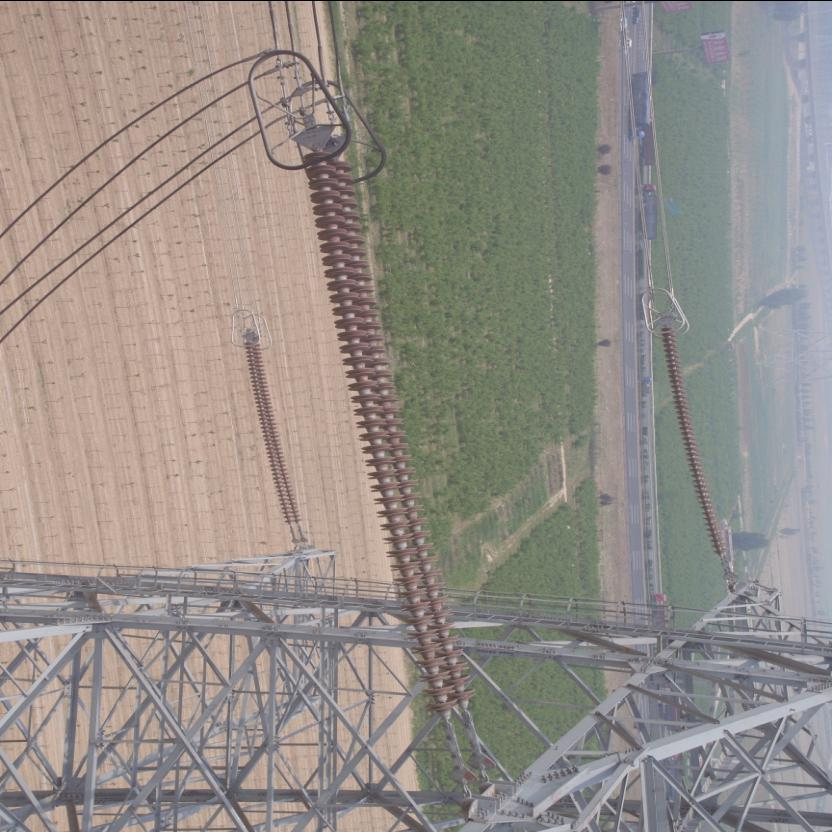insulator: (296, 138, 482, 744), (658, 320, 732, 569), (242, 337, 307, 533)
